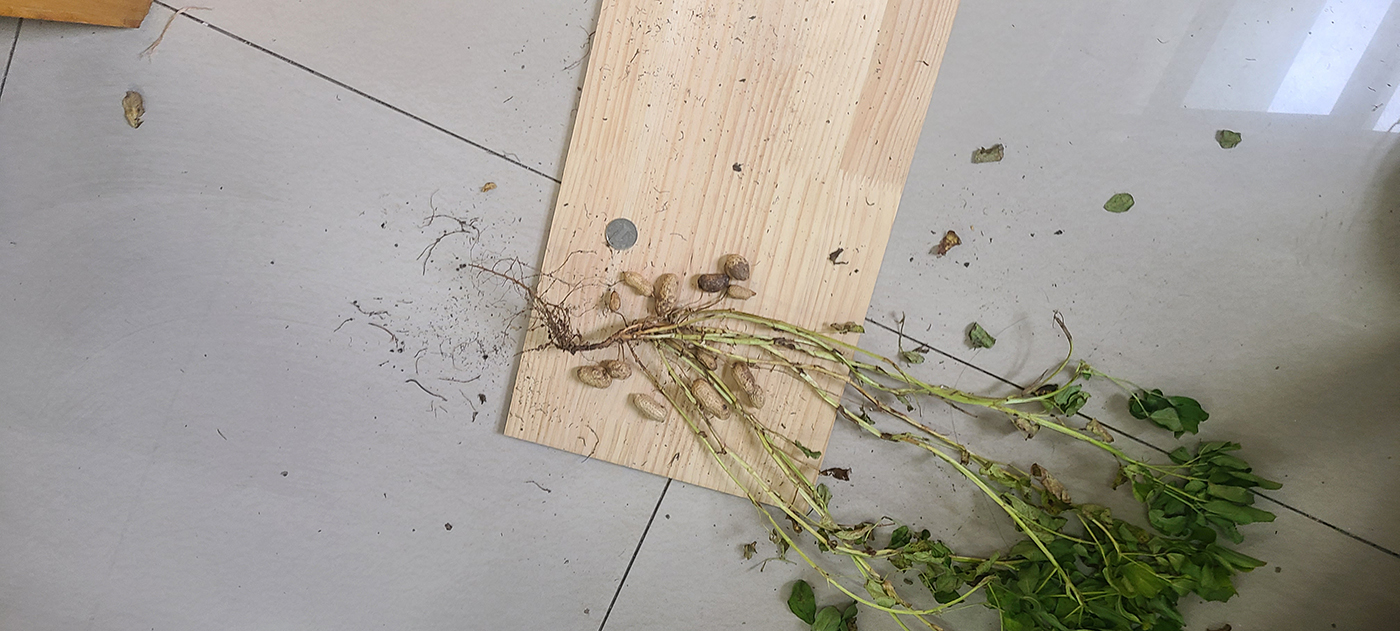h: (690, 379, 730, 420), (732, 362, 765, 410), (632, 393, 668, 422), (657, 273, 680, 315), (624, 272, 655, 298), (577, 365, 611, 387), (696, 346, 718, 371), (607, 360, 632, 380), (727, 284, 757, 300)
l: (725, 255, 750, 281), (697, 273, 729, 292)
